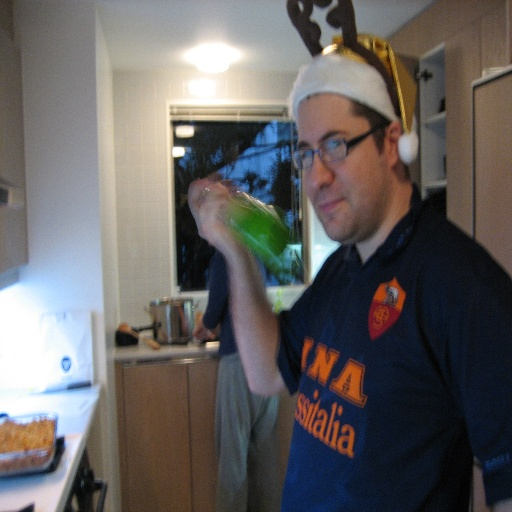hand: (188, 174, 232, 254), (192, 319, 216, 344)
